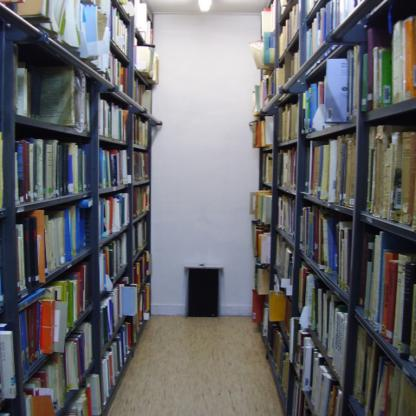book: (253, 0, 415, 415), (0, 0, 157, 415)
